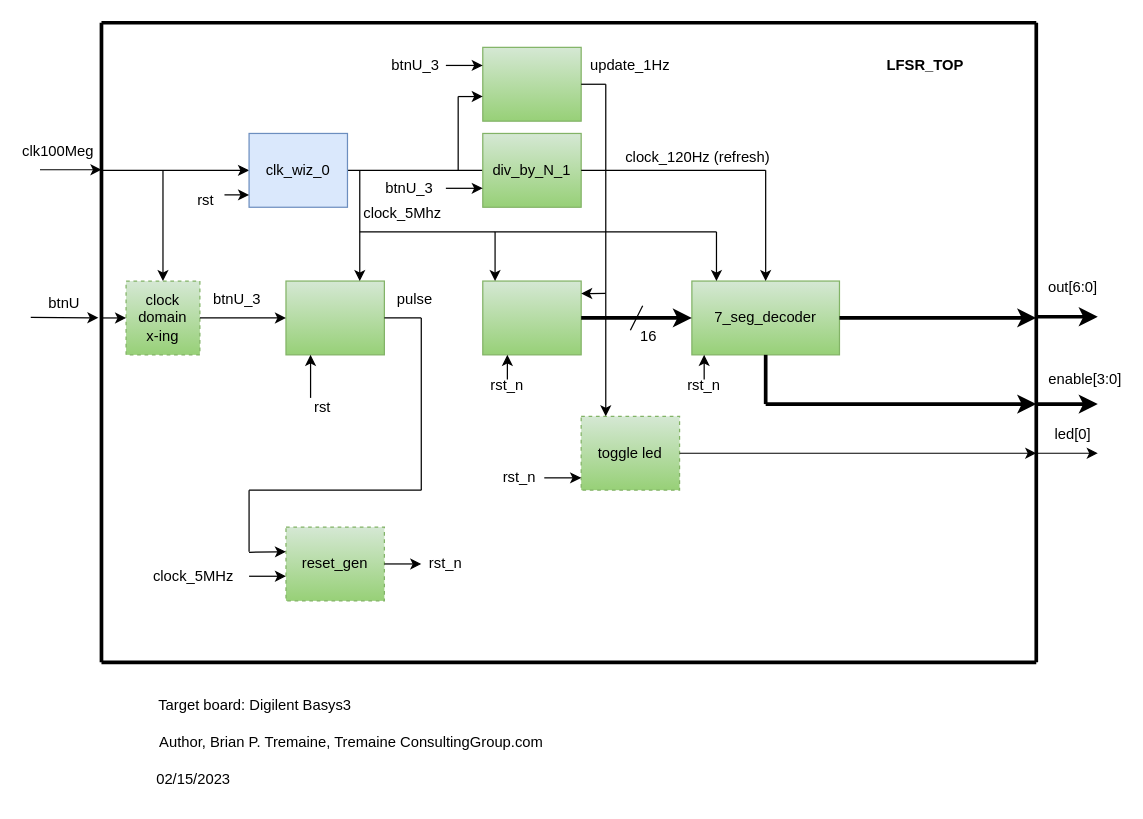
Image size: 1143x819. Some labels were removed from this diagram. Each missing label, with the box of its shape:
debounce_1: (285, 280, 384, 355)
div_by_N_2: (482, 46, 581, 121)
LFSR: (482, 280, 581, 355)
